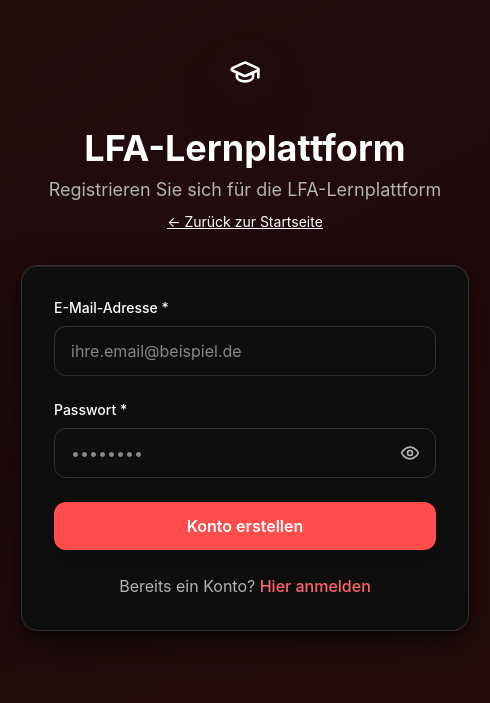
RegisterPage › shows the message of the server for a refused registration
In the field labelled "E-Mail-Adresse *": [245, 350] box left=54, top=326, right=436, bottom=376, type "azubi@example.com"
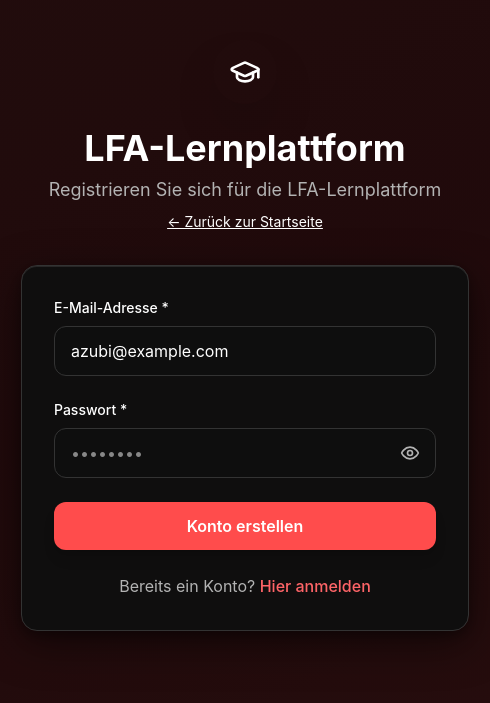
In the password field labelled "Passwort *": [245, 452] box left=54, top=428, right=436, bottom=478, type "secret12"
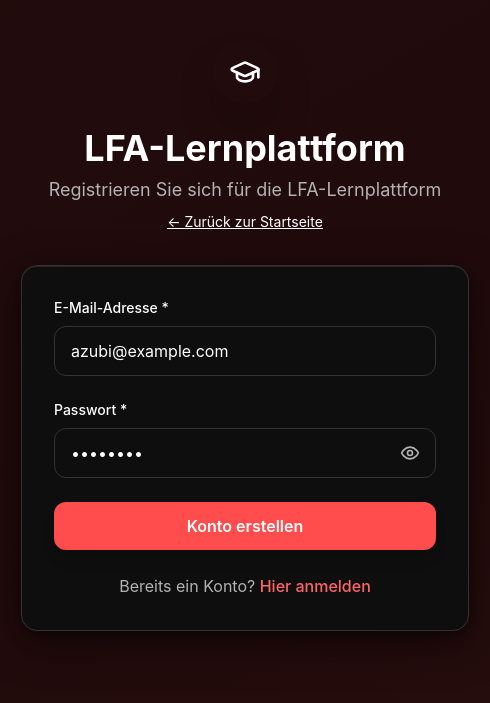
Click the button "Konto erstellen": [245, 526] box left=54, top=502, right=436, bottom=550
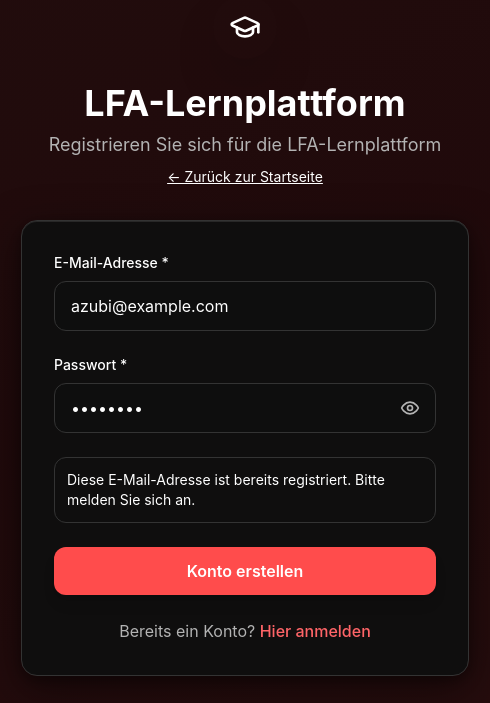
Now the text "bereits registriert" is shown, box left=67, top=470, right=385, bottom=508
